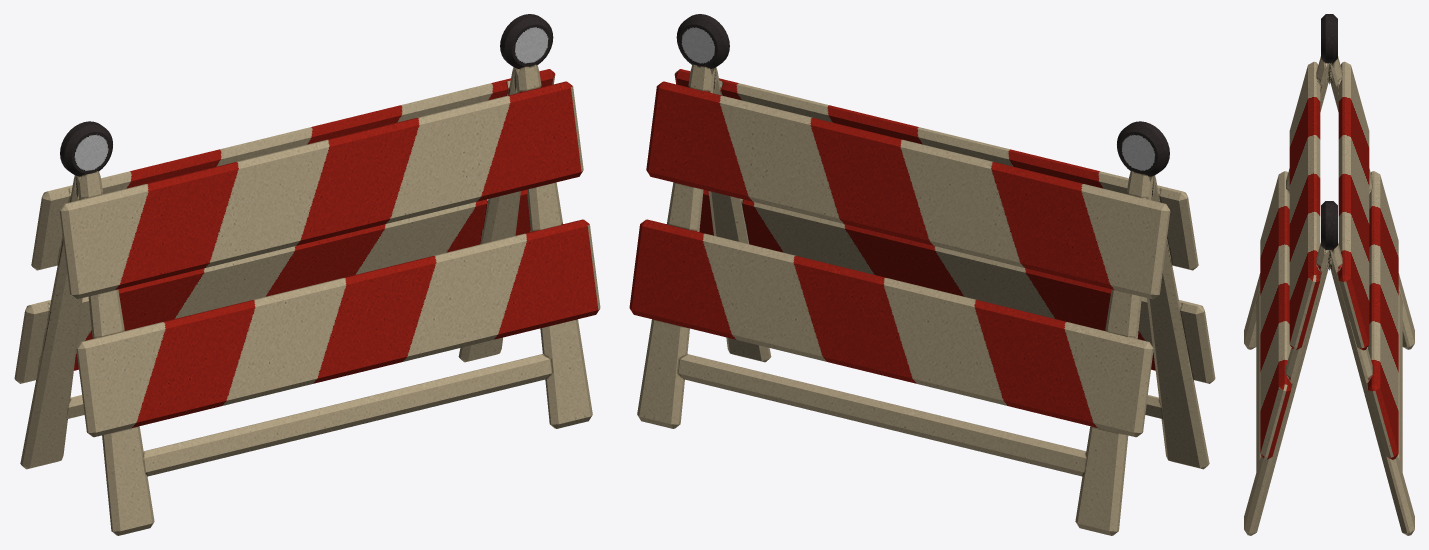
The model's file is barrage_LOD0.fbx.
3 views of the same model, side by side, from view 1: azimuth 30°, elevation 25°; view 2: azimuth 150°, elevation 25°; view 3: azimuth 270°, elevation 25° (orthographic). The views are drawn at different scales.
Parts seen in each view (by area): view 1: barrage_LOD0; view 2: barrage_LOD0; view 3: barrage_LOD0.
Boxes of the visible parts, x1,y1,x2,y2 form: barrage_LOD0: (14, 14, 600, 535); barrage_LOD0: (629, 14, 1215, 535); barrage_LOD0: (1244, 14, 1414, 535).
Size of the model in its own units: 209 by 147 by 69.5.
